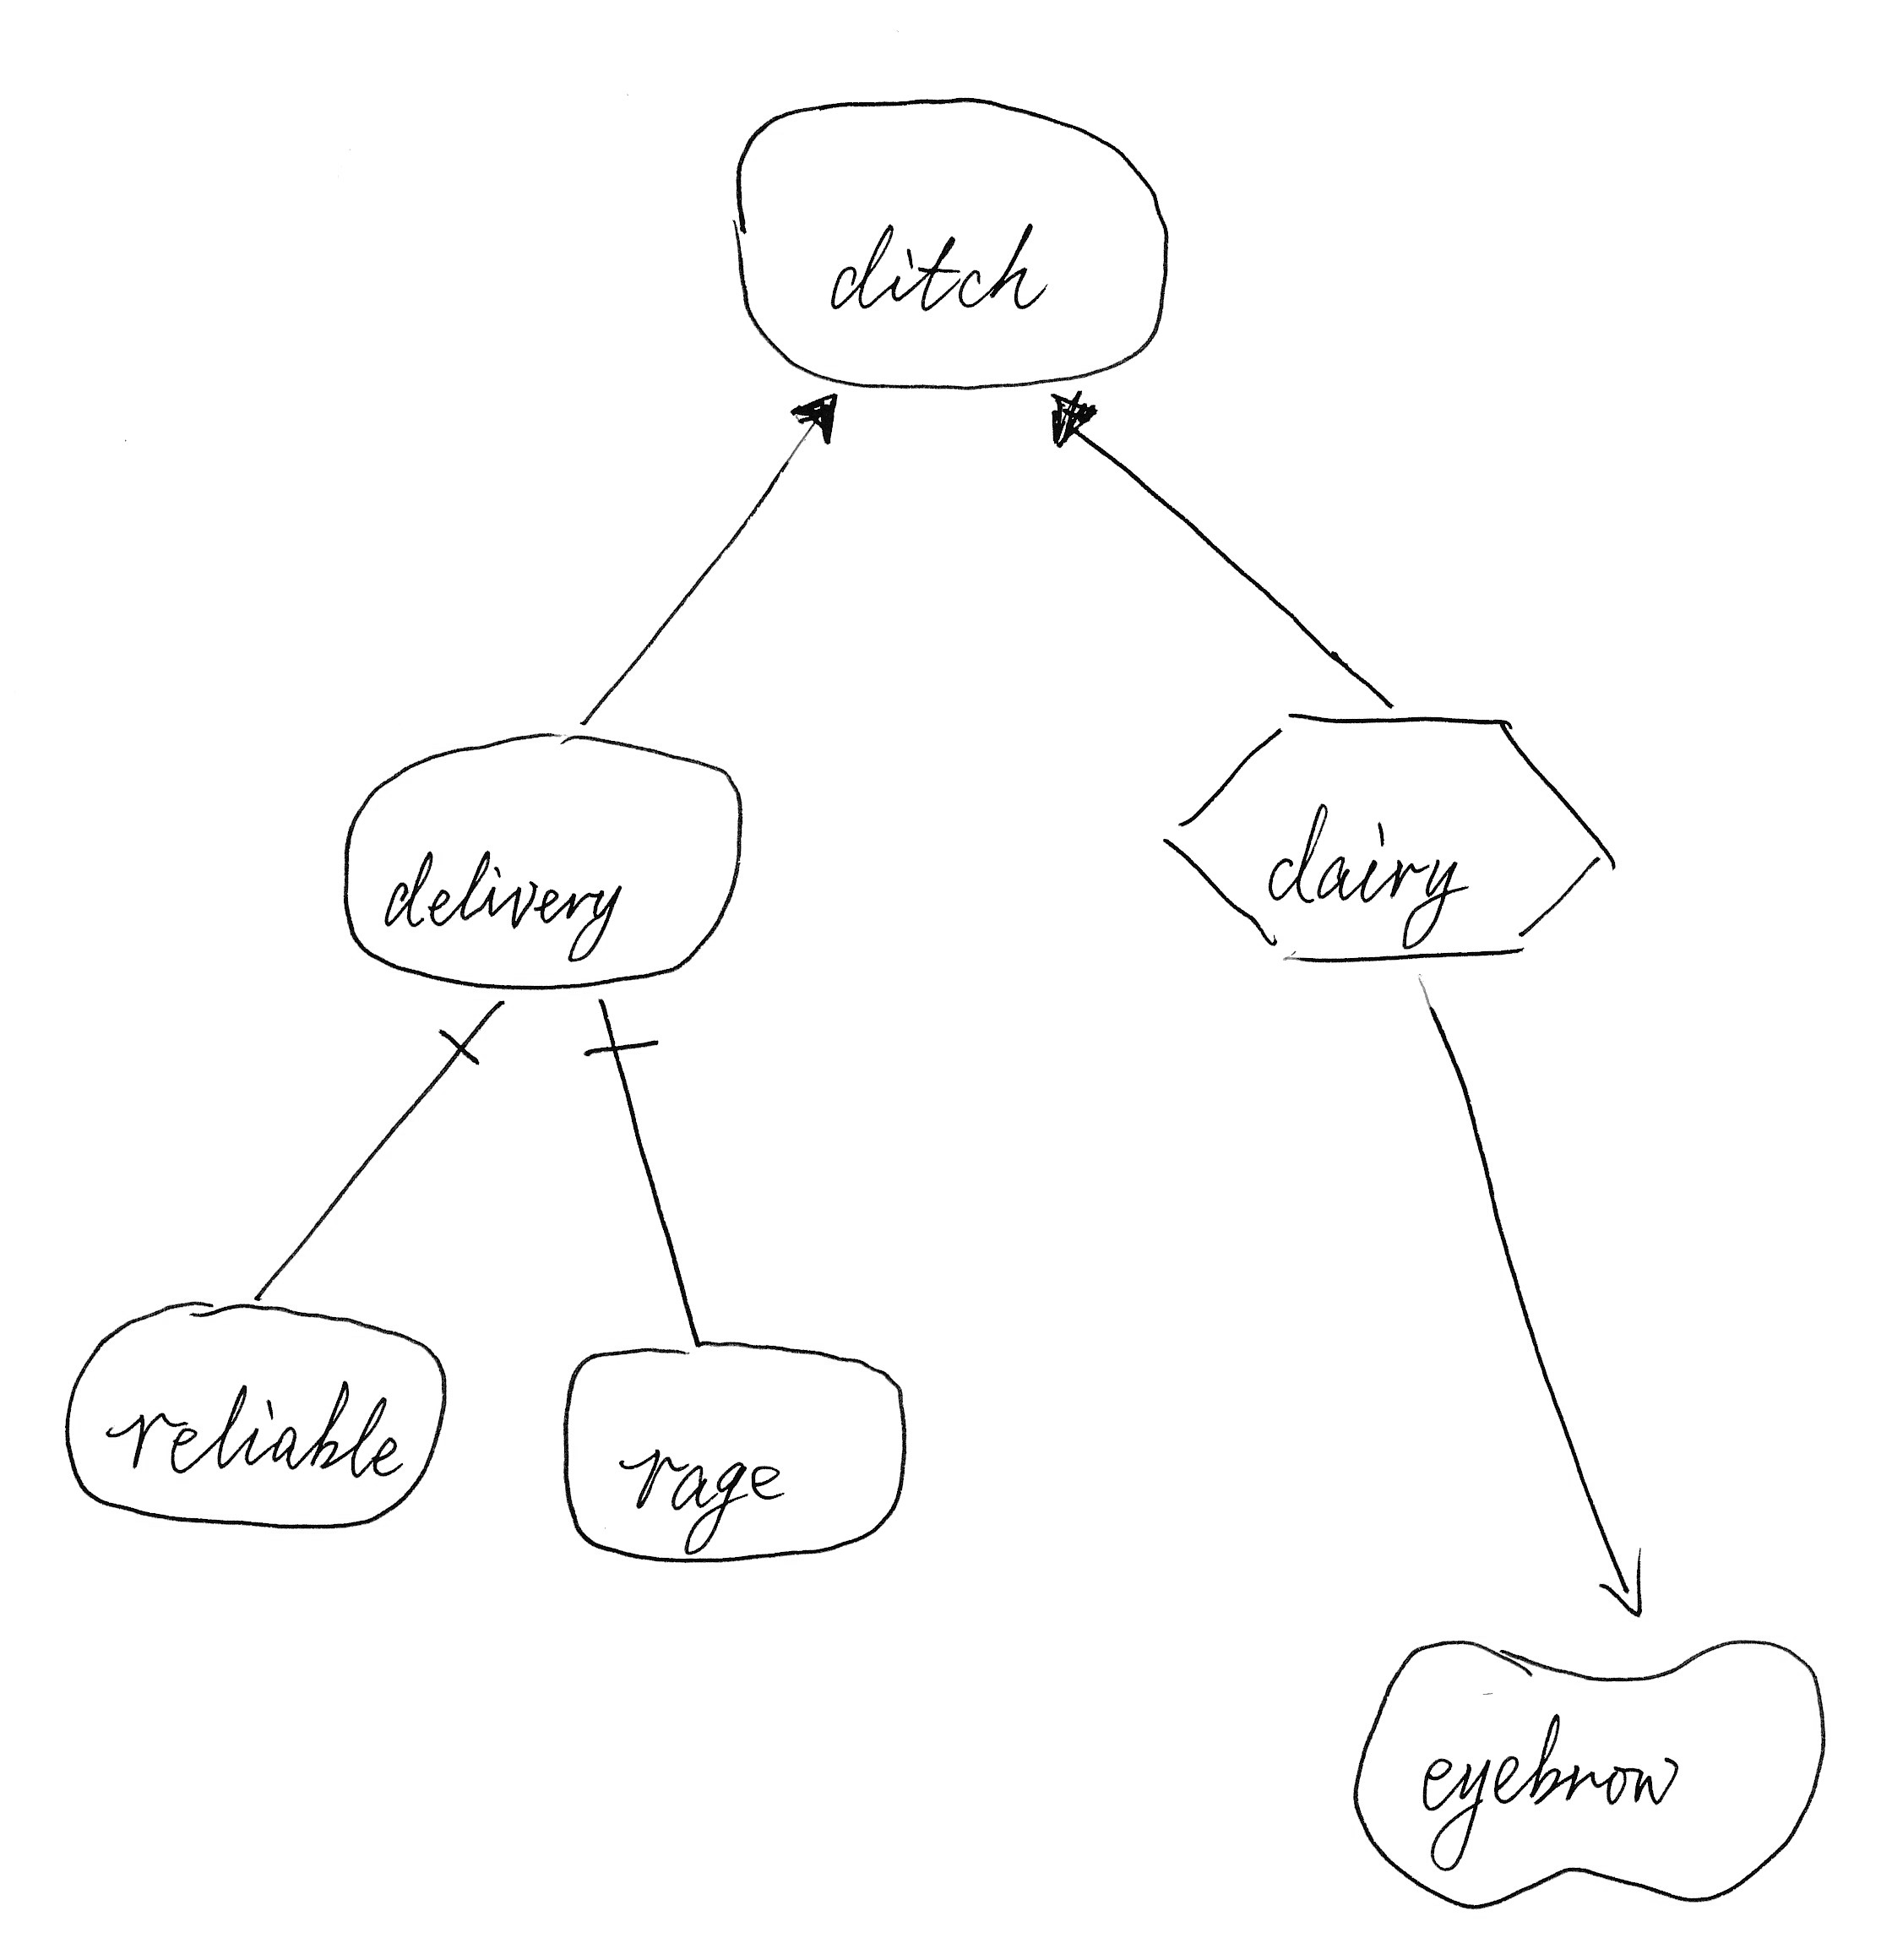and: (562, 1004, 677, 1090), (415, 1004, 504, 1085)
arrow: (1584, 1538, 1670, 1634)
goal: (719, 74, 1190, 408), (324, 712, 763, 1004), (49, 1283, 460, 1551), (539, 1325, 924, 1575)
or: (1027, 385, 1117, 467), (781, 385, 847, 457)
quality: (1327, 1617, 1838, 1928)
task: (1139, 693, 1626, 980)
